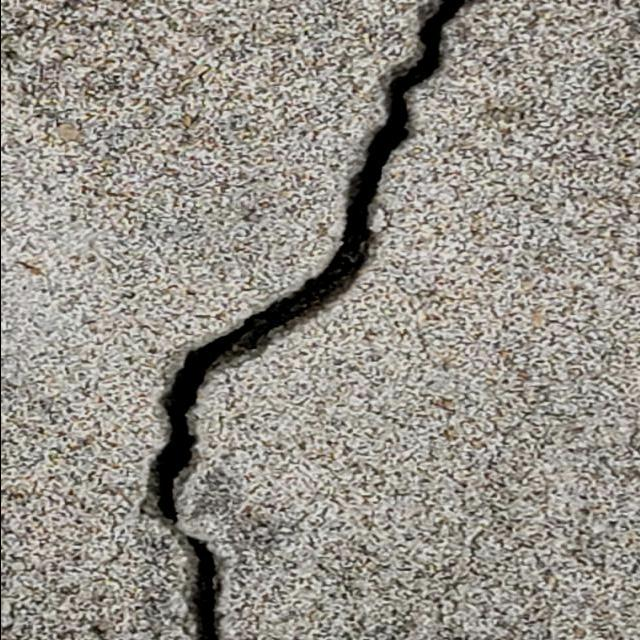SurfaceCrack: (112, 1, 540, 640)
